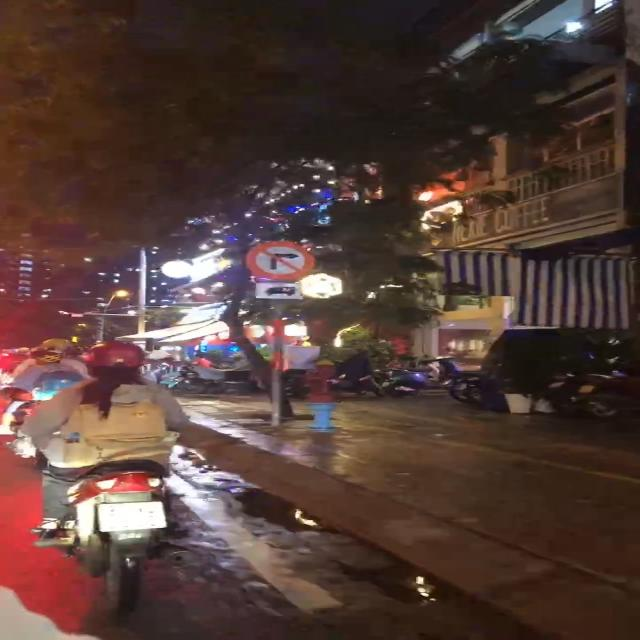Bien bao cam re phai: (242, 239, 324, 282)
